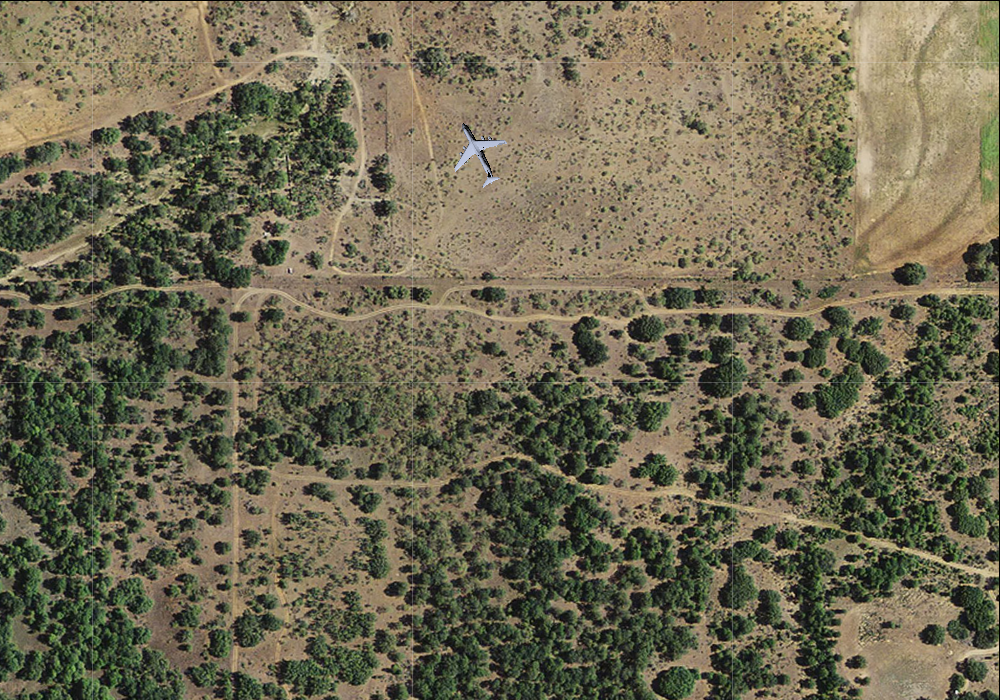plane: (432, 108, 522, 198)
